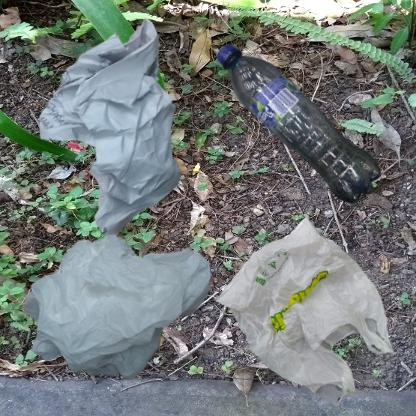bolsa: (10, 213, 246, 412), (213, 213, 397, 409)
botella: (213, 10, 416, 269)
papel: (10, 10, 271, 293)
